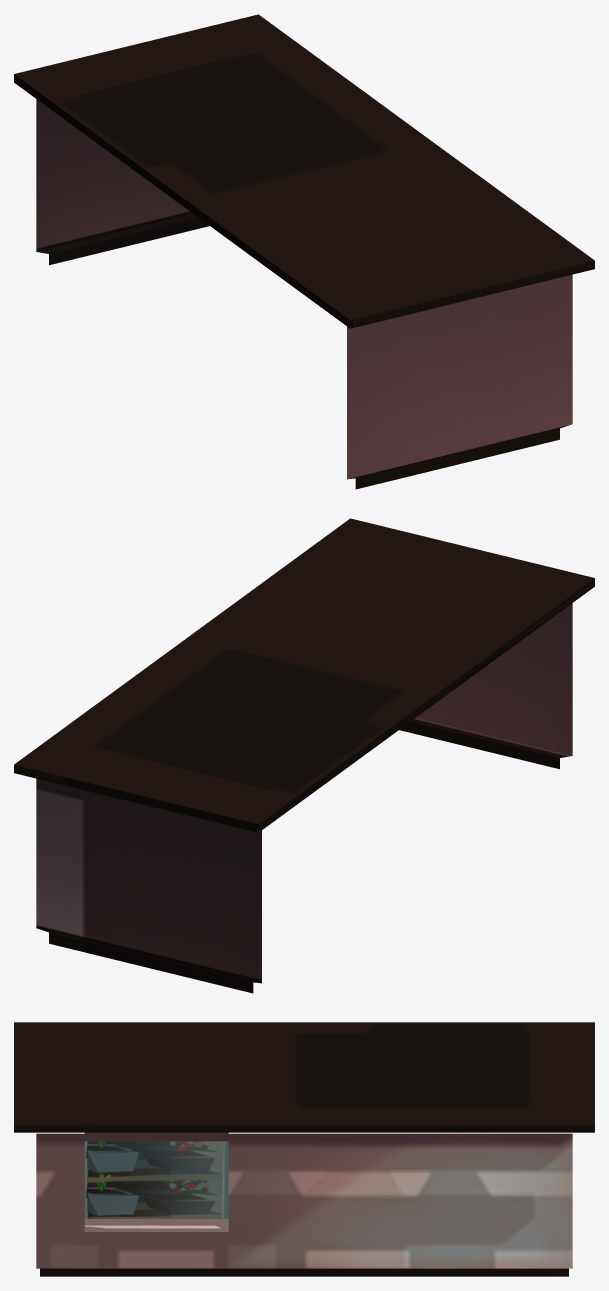
Rendered from Tx_prop_counter_3.fbx.
3 views of the same model, one above another, from view 1: azimuth 30°, elevation 25°; view 2: azimuth 150°, elevation 25°; view 3: azimuth 270°, elevation 25° (orthographic). The views are drawn at different scales.
Parts seen in each view (by area): view 1: Tx_prop_counter_10; view 2: Tx_prop_counter_10; view 3: Tx_prop_counter_10.
Part boxes in pixels (x1,y1,x2,y2): Tx_prop_counter_10: (14, 14, 594, 489); Tx_prop_counter_10: (14, 518, 594, 993); Tx_prop_counter_10: (14, 1022, 594, 1276).
Bounding box in the file's own units: 4.16 × 3.01 × 9.92.
1 material, 1 textured.
